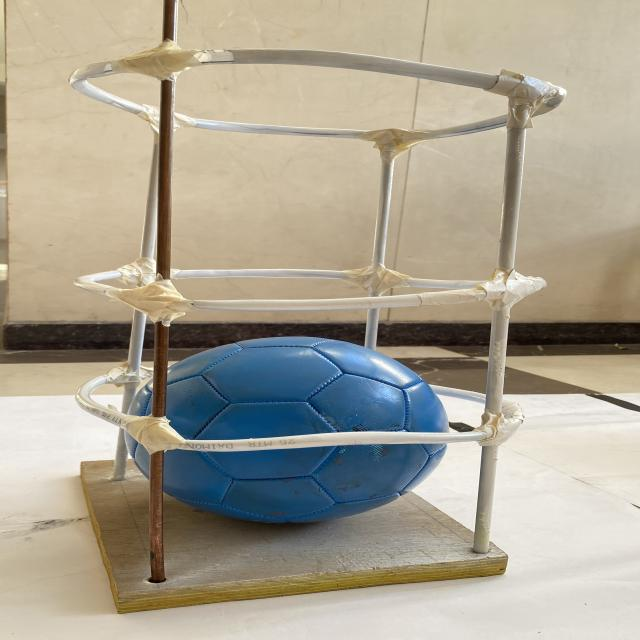blue_ball: (133, 335, 444, 518)
silo: (85, 46, 559, 591)
